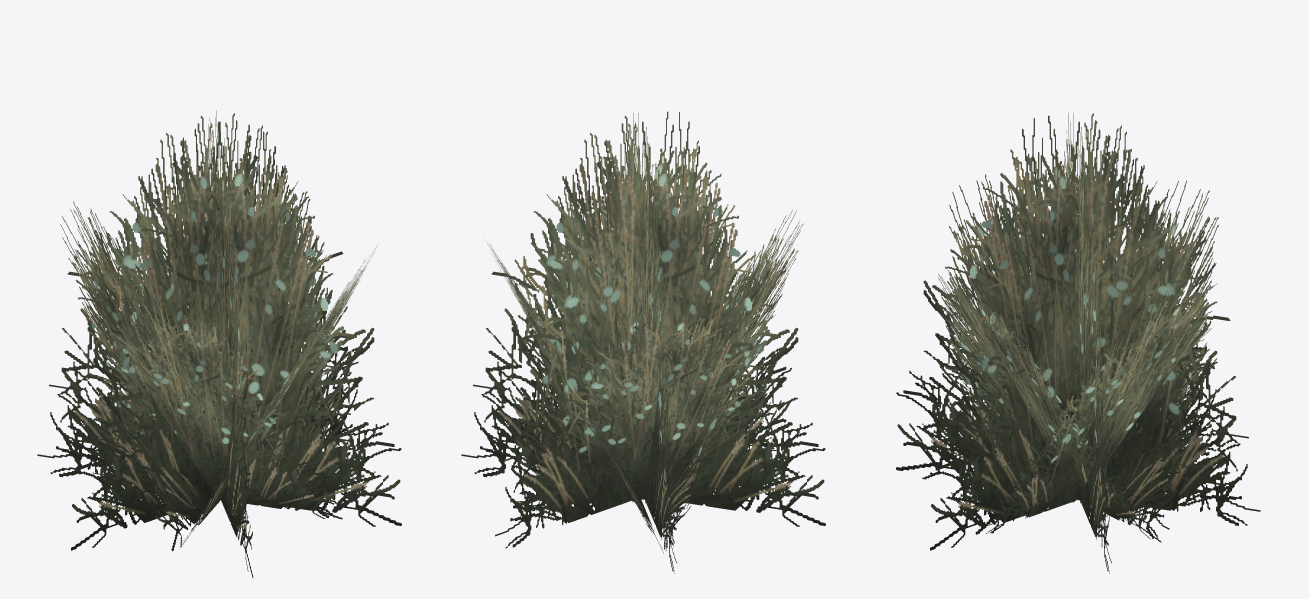
Rendered from grass_budding.obj.
3 renders of one model, left to right at view 1: azimuth 30°, elevation 25°; view 2: azimuth 150°, elevation 25°; view 3: azimuth 270°, elevation 25°, orthographic.
Visible parts, largest first — view 1: Third_Crossed_Card, First_Crossed_Card, Right_Leaning_Card, Front_Leaning_Card, Second_Crossed_Card, Left_Leaning_Card, Back_Leaning_Card; view 2: First_Crossed_Card, Second_Crossed_Card, Front_Leaning_Card, Right_Leaning_Card, Third_Crossed_Card, Back_Leaning_Card, Left_Leaning_Card; view 3: Second_Crossed_Card, Third_Crossed_Card, Left_Leaning_Card, Back_Leaning_Card, Front_Leaning_Card, First_Crossed_Card, Right_Leaning_Card.
Boxes of the visible parts, x1,y1,x2,y2 form: Third_Crossed_Card: (37, 115, 401, 526); First_Crossed_Card: (71, 113, 362, 550); Right_Leaning_Card: (87, 291, 342, 519); Front_Leaning_Card: (60, 201, 213, 551); Second_Crossed_Card: (204, 110, 253, 577); Left_Leaning_Card: (96, 168, 348, 518); Back_Leaning_Card: (180, 247, 376, 547); First_Crossed_Card: (461, 115, 825, 526); Second_Crossed_Card: (495, 111, 791, 548); Front_Leaning_Card: (516, 295, 776, 510); Right_Leaning_Card: (654, 210, 803, 550); Third_Crossed_Card: (626, 113, 676, 573); Back_Leaning_Card: (507, 164, 763, 510); Left_Leaning_Card: (487, 243, 663, 553); Second_Crossed_Card: (896, 115, 1260, 525); Third_Crossed_Card: (930, 113, 1217, 550); Left_Leaning_Card: (983, 276, 1217, 533); Back_Leaning_Card: (938, 269, 1161, 542); Front_Leaning_Card: (1104, 180, 1218, 539); First_Crossed_Card: (1061, 113, 1111, 573); Right_Leaning_Card: (939, 174, 1048, 534).
Bounding box in the file's own units: 39.47 × 41 × 39.47.
1 material, 1 textured.
